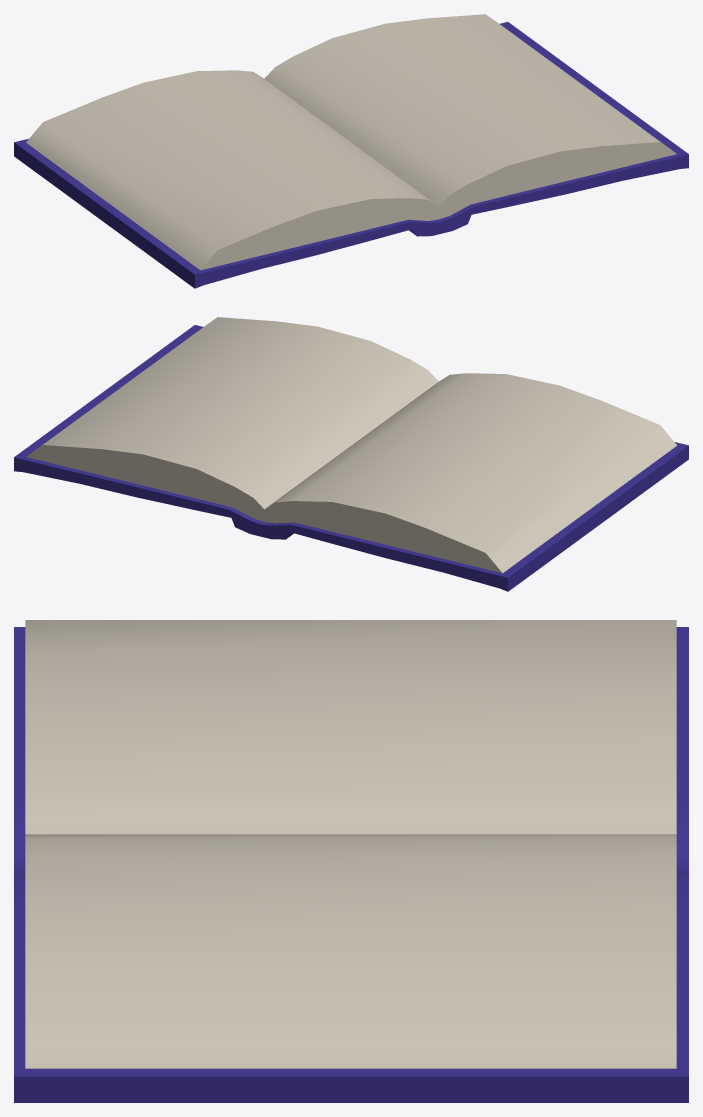
File: livre.glb
3 views of the same model, one above another, from view 1: azimuth 30°, elevation 25°; view 2: azimuth 150°, elevation 25°; view 3: azimuth 270°, elevation 25° (orthographic). The views are drawn at different scales.
Visible parts, largest first — view 1: pCubeShape1; view 2: pCubeShape1; view 3: pCubeShape1.
Part boxes in pixels (x1,y1,x2,y2): pCubeShape1: (14, 14, 688, 288); pCubeShape1: (14, 317, 688, 591); pCubeShape1: (14, 620, 688, 1102).
Bounding box in the file's own units: 0.0421 × 0.00411 × 0.0267.
